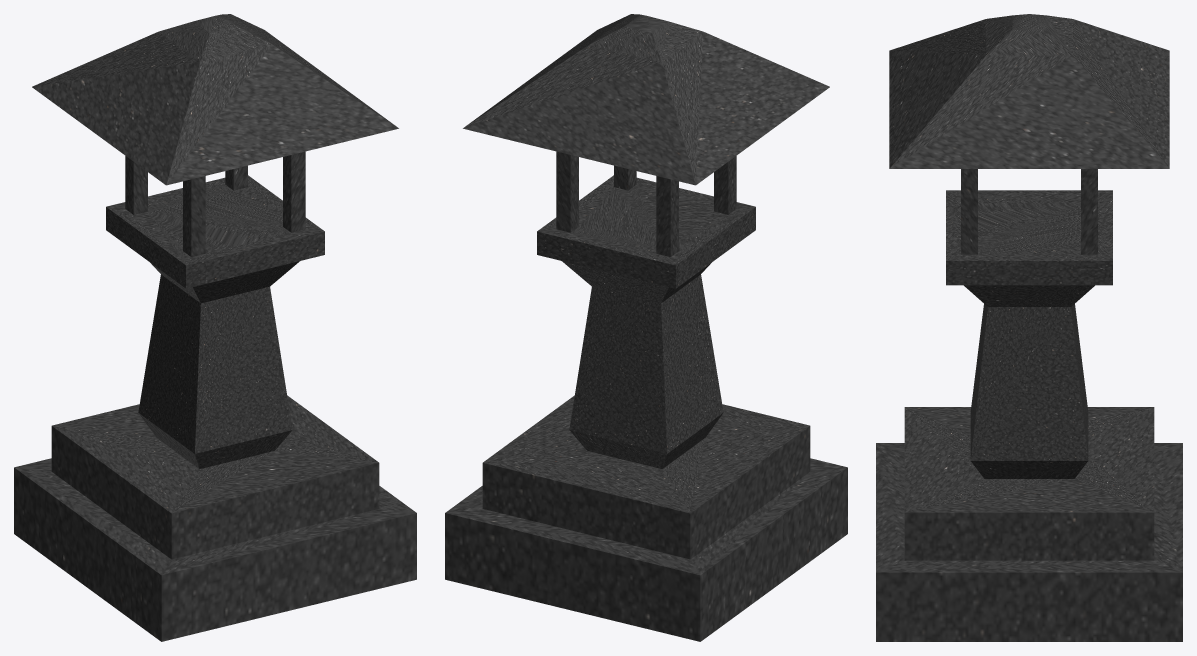
Rendered from Tourou.fbx.
The picture shows the model from 3 angles, left to right: view 1: azimuth 30°, elevation 25°; view 2: azimuth 150°, elevation 25°; view 3: azimuth 270°, elevation 25°; orthographic projection. The views are drawn at different scales.
Visible parts, largest first — view 1: pCube1; view 2: pCube1; view 3: pCube1.
Part boxes in pixels (left/top/right/bottom): pCube1: left=14, top=14, right=416, bottom=641; pCube1: left=445, top=14, right=847, bottom=641; pCube1: left=876, top=14, right=1182, bottom=641.
Size of the model in its own units: 0.015 by 0.0304 by 0.015.
1 material, 1 textured.
